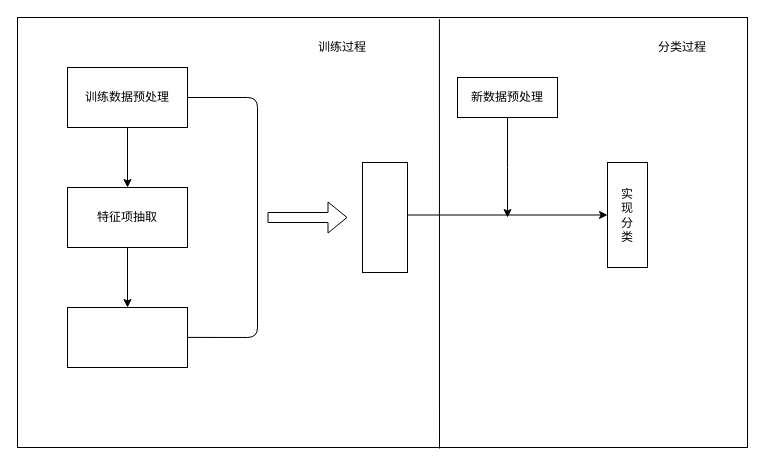
Image size: 765x467. Some labels were removed from this diagram. Each missing label, with the centre of its shape:
构 造 分 类 器: point (385, 217)
训练数据: point (127, 337)
